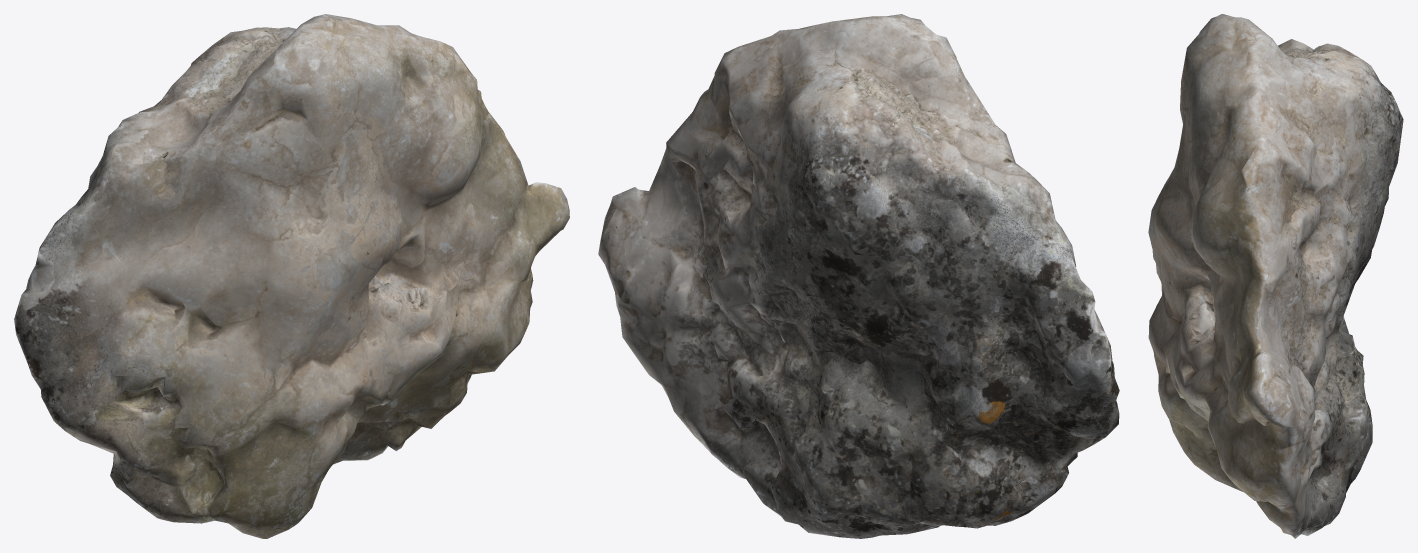
Rendered from Rock.fbx.
The picture shows the model from 3 angles, left to right: view 1: azimuth 30°, elevation 25°; view 2: azimuth 150°, elevation 25°; view 3: azimuth 270°, elevation 25°; orthographic projection. The views are drawn at different scales.
Visible parts, largest first — view 1: Rock; view 2: Rock; view 3: Rock.
Part boxes in pixels (x1,y1,x2,y2): Rock: (14, 14, 569, 538); Rock: (598, 14, 1119, 538); Rock: (1148, 14, 1403, 538).
Bounding box in the file's own units: 362 × 325 × 154.
